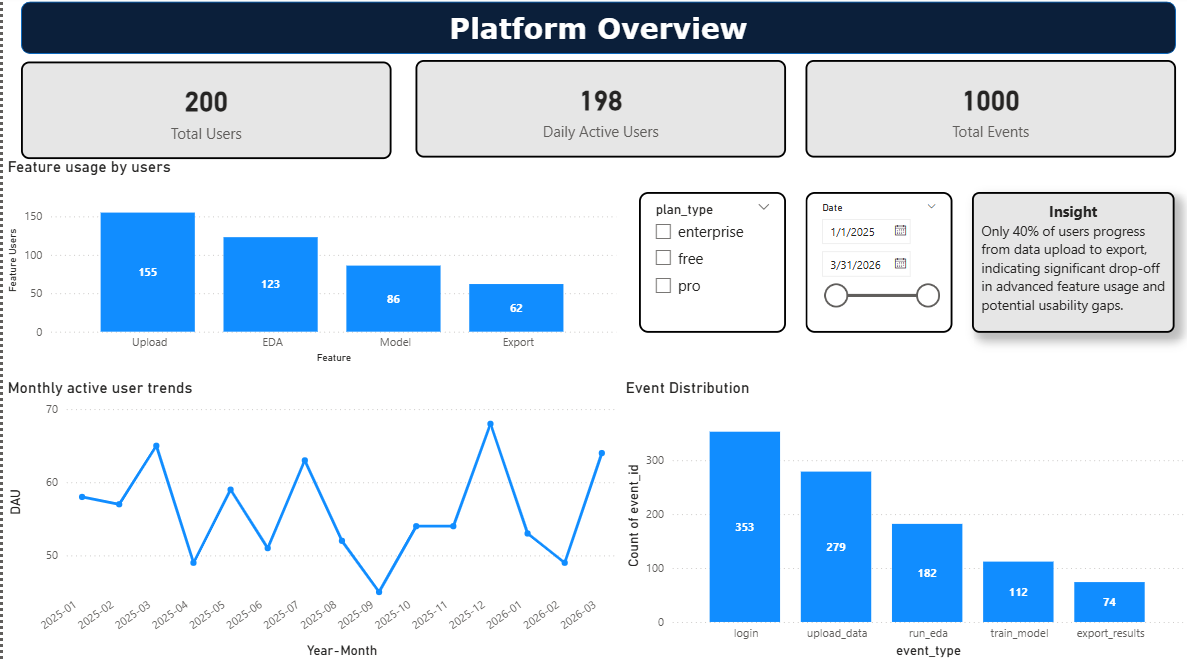

The dashboard page shown, as its layout file describes it:
{"tool":"powerbi","page":{"name":"Platform Overview","canvas":[1280,720],"ordinal":0},"visuals":[{"type":"card","fields":{"Values":["formula.Total Events"]},"box":[866.3,71.2,399.9,105.2],"z":0},{"type":"lineChart","title":"Monthly active user trends","fields":{"Y":["formula.DAU"],"Category":["Date.Year-Month"]},"box":[0,414.5,667.1,306],"z":1000},{"type":"clusteredColumnChart","title":"Event Distribution","fields":{"Category":["events.event_type"],"Y":["CountNonNull(events.event_id)"]},"box":[667.1,414.5,612.1,306],"z":2000},{"type":"clusteredColumnChart","title":"Feature usage by users","fields":{"Category":["Feature Table.Feature"],"Y":["Feature Table.Feature Users"]},"box":[0,176.5,667.1,226.7],"z":3000},{"type":"slicer","fields":{"Values":["Date.Date"]},"box":[866.3,213.7,158.7,152.2],"z":4000},{"type":"slicer","fields":{"Values":["users.plan_type"]},"box":[686.6,213.7,158.7,152.2],"z":5000},{"type":"shape","box":[19.4,8.1,1246.8,56.7],"z":6000},{"type":"card","fields":{"Values":["formula.DAU"]},"box":[445.3,71.2,399.9,105.2],"z":7000},{"type":"card","fields":{"Values":["formula.Total Users"]},"box":[19.4,72.9,399.9,105.2],"z":8000},{"type":"textbox","box":[1046,213.7,218.6,152.2],"z":9000}]}

Visuals, with their boxes in screenshot pixels (x1, y1, x2, y2), scaled from the page's 1280x720 canvas onto the 1187x660 screenshot:
card - formula.Total Events: BBox(803, 65, 1174, 162)
"Monthly active user trends" lineChart: BBox(0, 380, 619, 659)
"Event Distribution" clusteredColumnChart: BBox(619, 380, 1186, 659)
"Feature usage by users" clusteredColumnChart: BBox(0, 162, 619, 370)
slicer - Date.Date: BBox(803, 196, 951, 335)
slicer - users.plan_type: BBox(637, 196, 784, 335)
shape: BBox(18, 7, 1174, 59)
card - formula.DAU: BBox(413, 65, 784, 162)
card - formula.Total Users: BBox(18, 67, 389, 163)
textbox: BBox(970, 196, 1173, 335)
